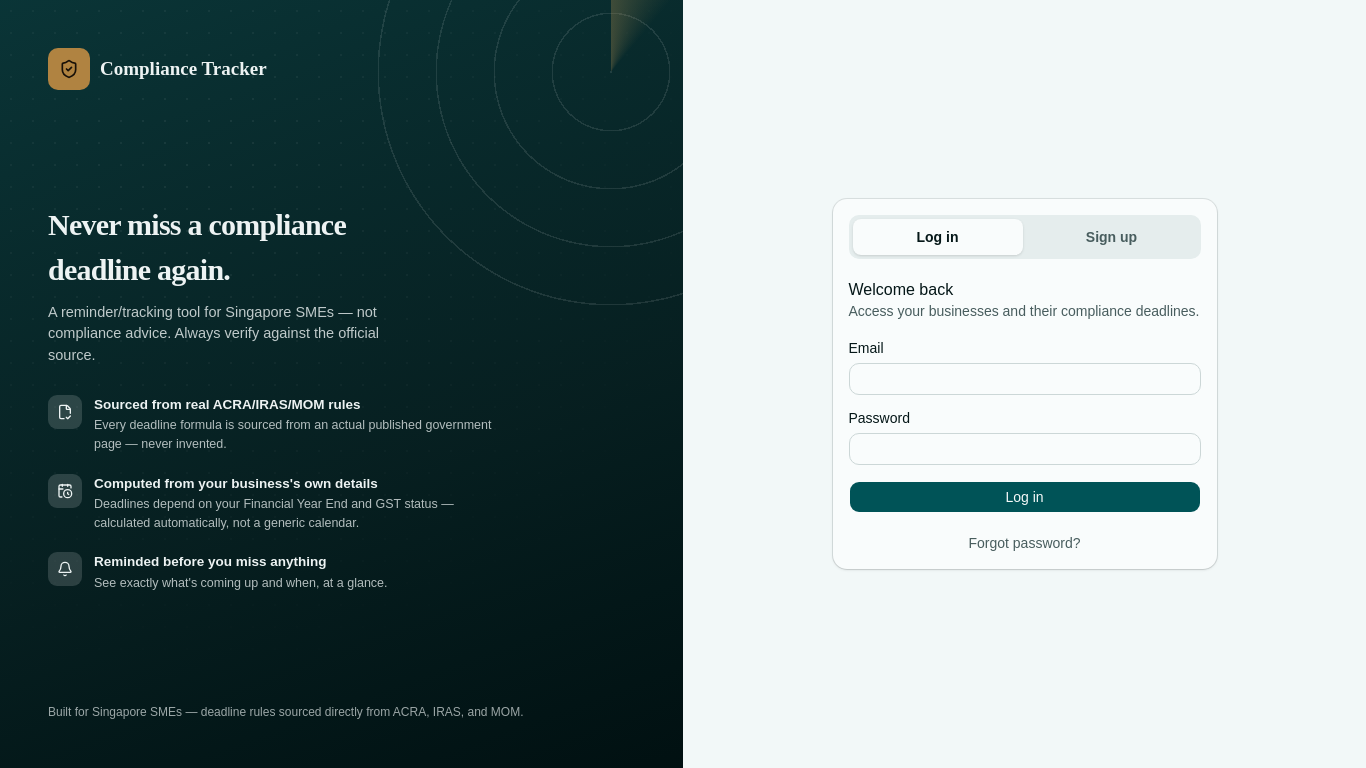
Test case: LoginForm › on successful registration, shows the check-your-email screen instead of logging in (issue #120)
Click the button "Sign up": coordinates (1112, 237) [1026, 219, 1196, 255]
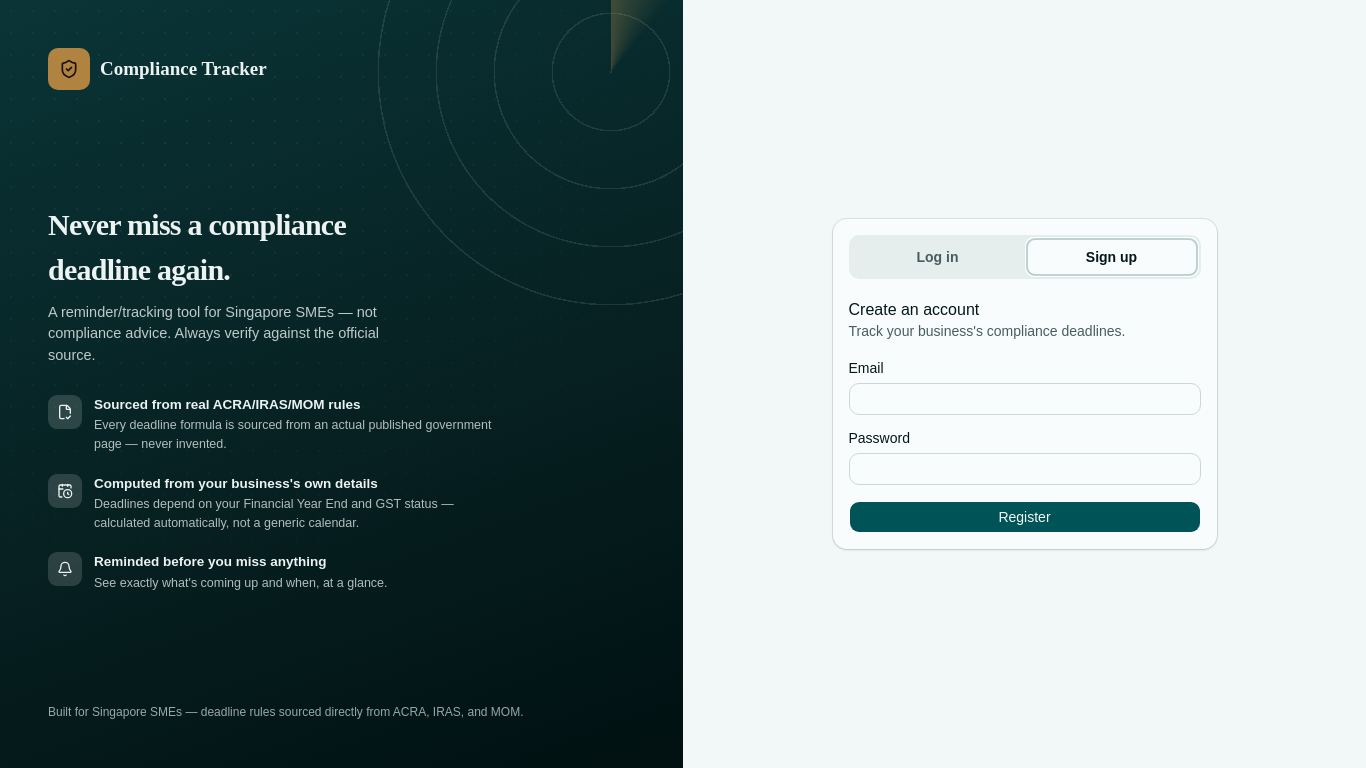
In the field labelled "Email": coordinates (1024, 399) [848, 383, 1200, 415], type "new@example.com"
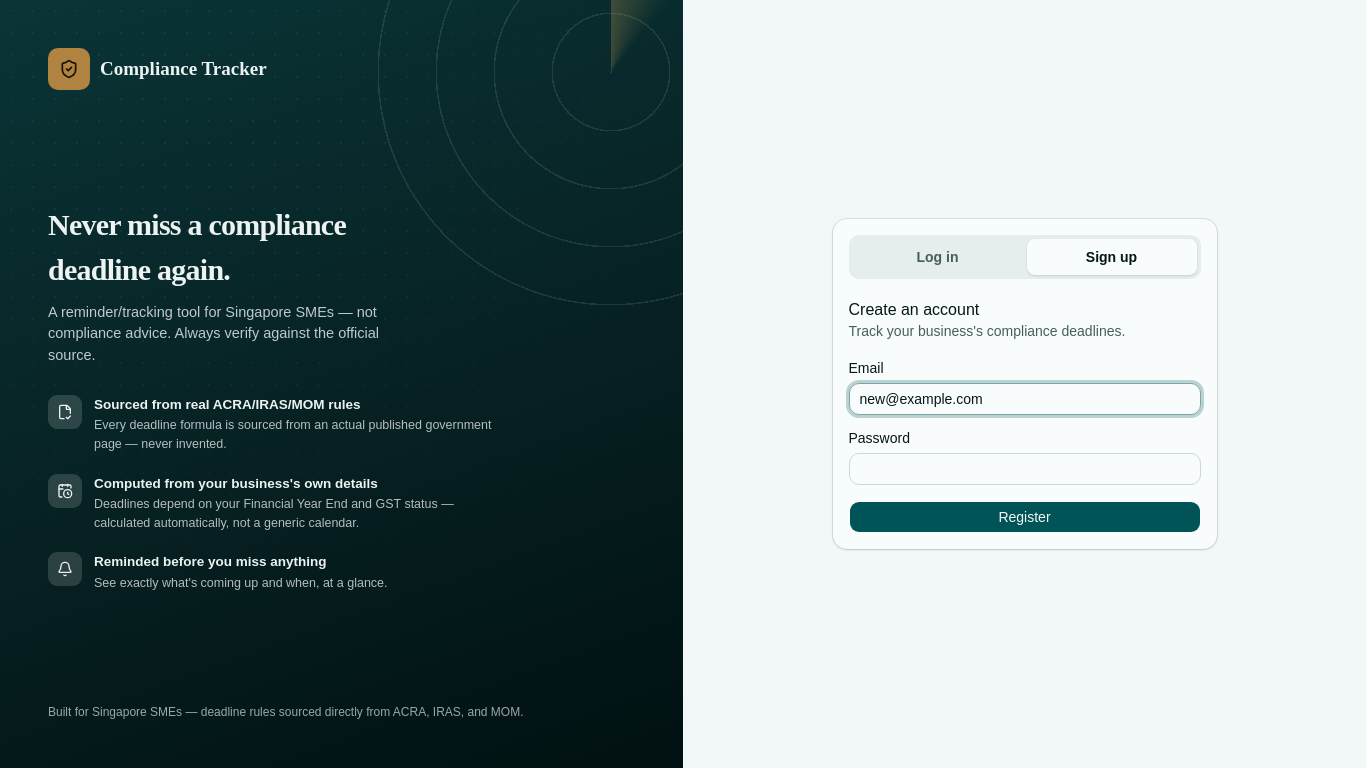
In the password field labelled "Password": coordinates (1024, 469) [848, 453, 1200, 485], type "a-new-password"
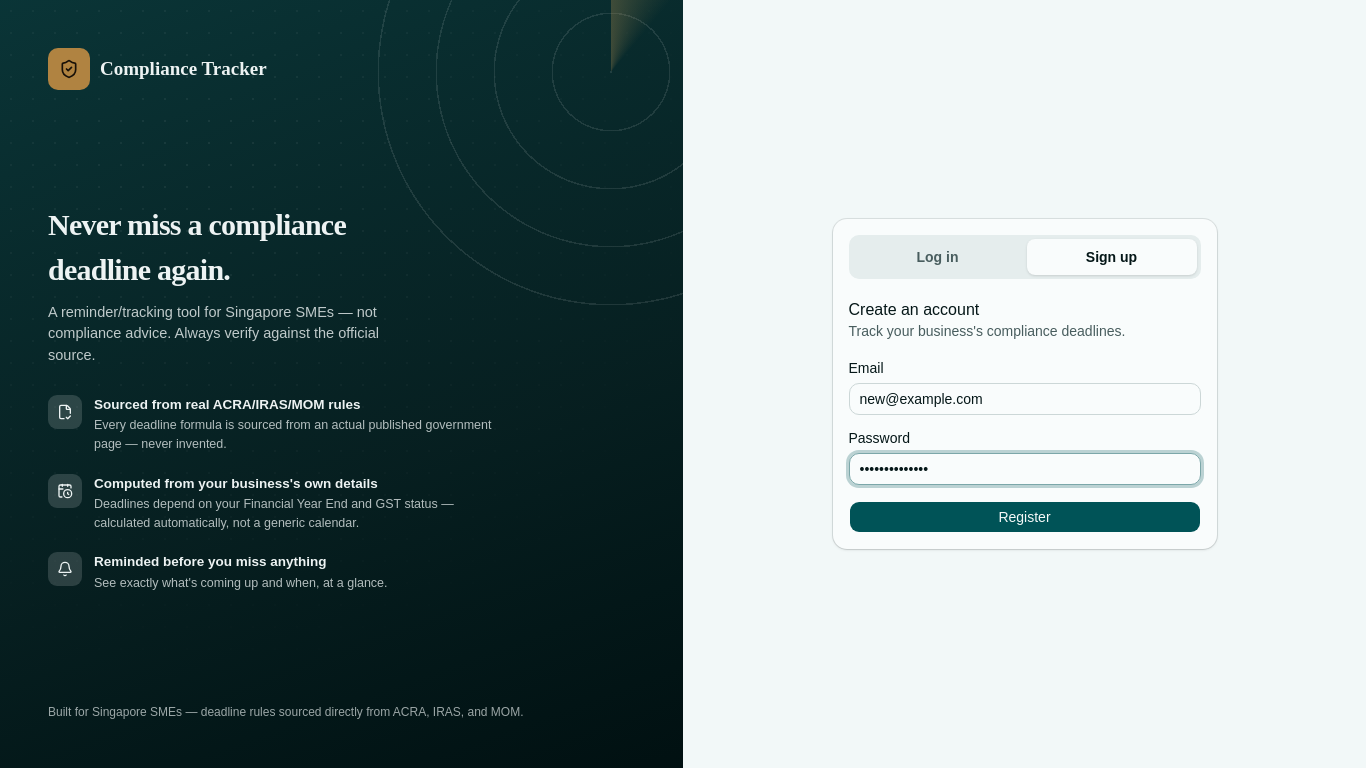
Click the button "Register": coordinates (1024, 517) [848, 501, 1200, 533]
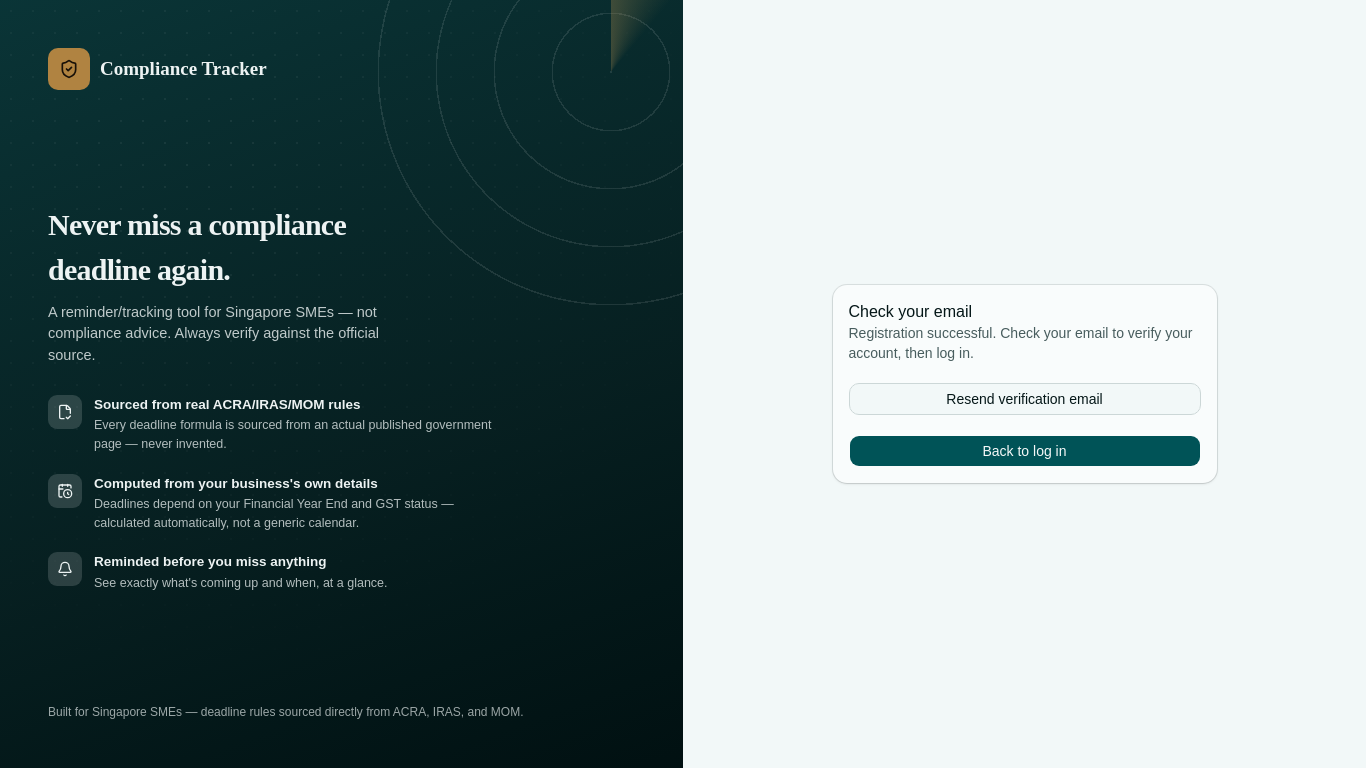
expect the text "Check your email" is shown: met, box [848, 303, 972, 320]
expect the text "Registration successful. Check your email to verify your account, then log in." is shown: met, box [848, 323, 1200, 363]
